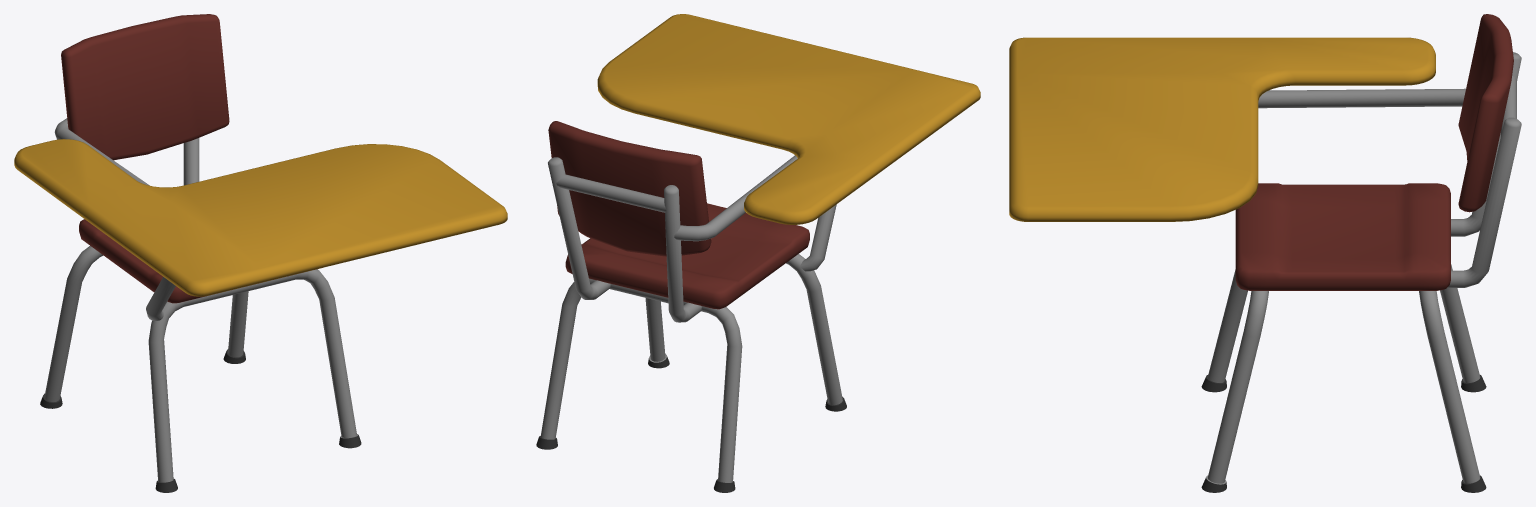
The model's file is desk2.fbx.
The picture shows the model from 3 angles, left to right: view 1: azimuth 30°, elevation 25°; view 2: azimuth 150°, elevation 25°; view 3: azimuth 270°, elevation 25°; orthographic projection. The views are drawn at different scales.
Visible parts, largest first — view 1: Desk 2; view 2: Desk 2; view 3: Desk 2.
Boxes of the visible parts, x1,y1,x2,y2 form: Desk 2: [14, 14, 507, 492]; Desk 2: [536, 14, 980, 492]; Desk 2: [1009, 14, 1521, 492].
Size of the model in its own units: 93.43 by 115 by 96.21.
